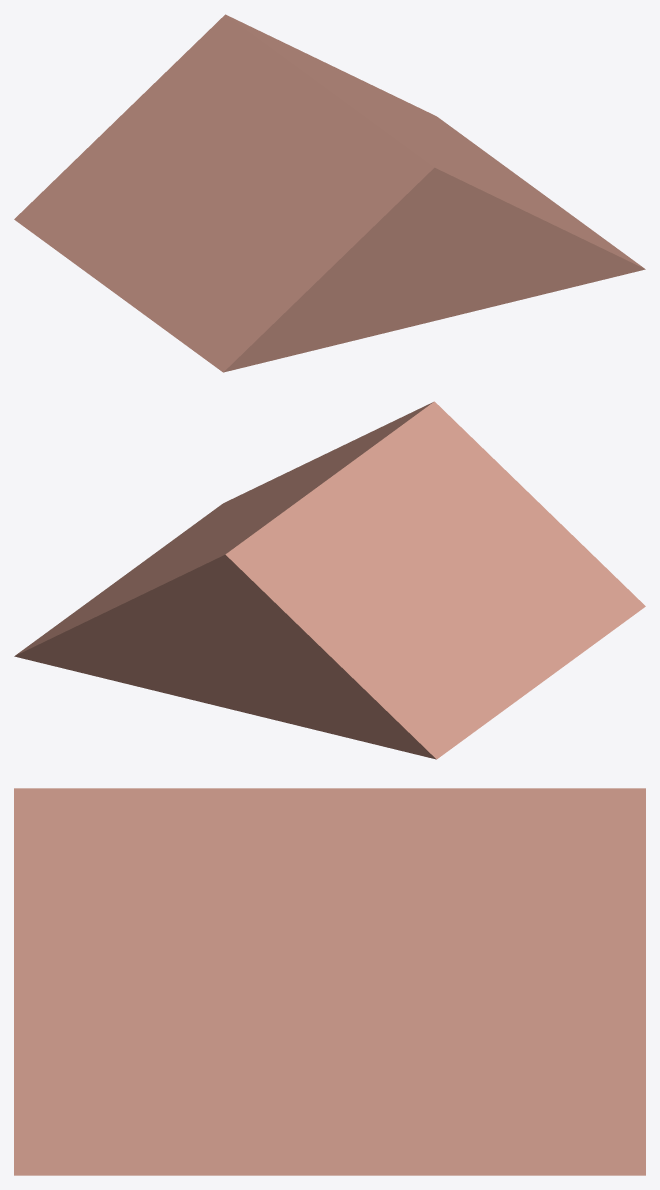
Rendered from prism_roof.gltf.
The picture shows the model from 3 angles, top to bottom: view 1: azimuth 30°, elevation 25°; view 2: azimuth 150°, elevation 25°; view 3: azimuth 270°, elevation 25°; orthographic projection. The views are drawn at different scales.
Visible parts, largest first — view 1: mesh; view 2: mesh; view 3: mesh.
Boxes of the visible parts, x1=… form: mesh: x1=14, y1=14, x2=645, y2=372; mesh: x1=14, y1=401, x2=645, y2=759; mesh: x1=14, y1=788, x2=645, y2=1175.
Size of the model in its own units: 4.9 by 1.7 by 4.2.
